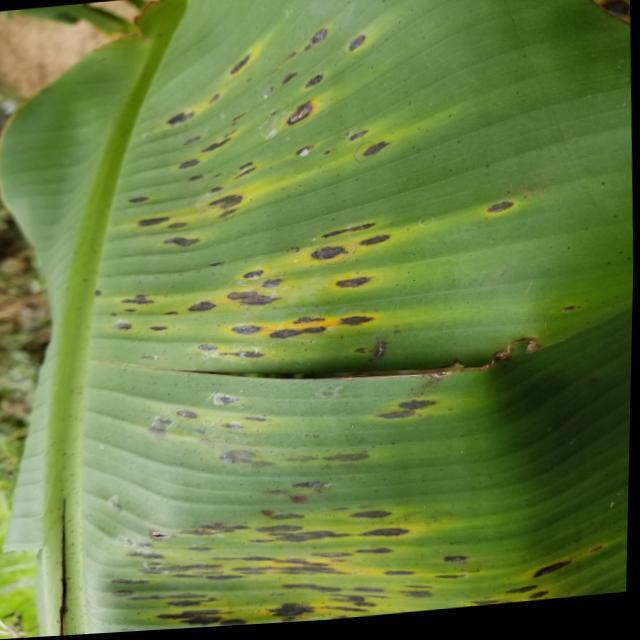Early_rust: (20, 0, 604, 630)
